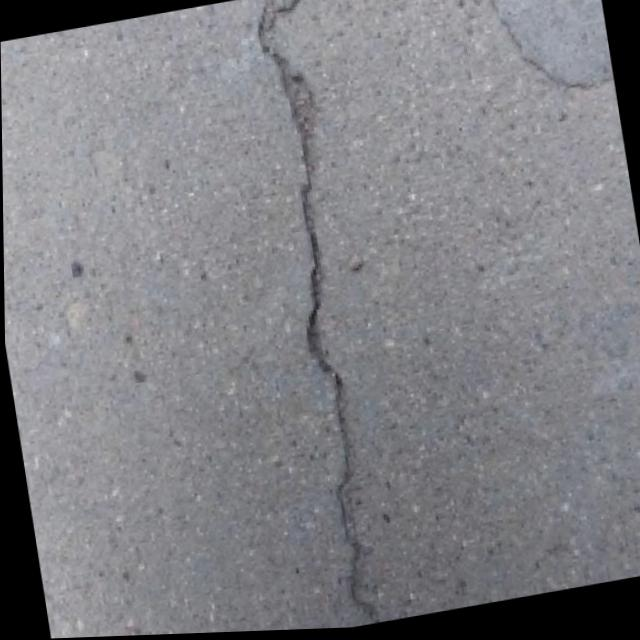Crack: (204, 0, 427, 634)
